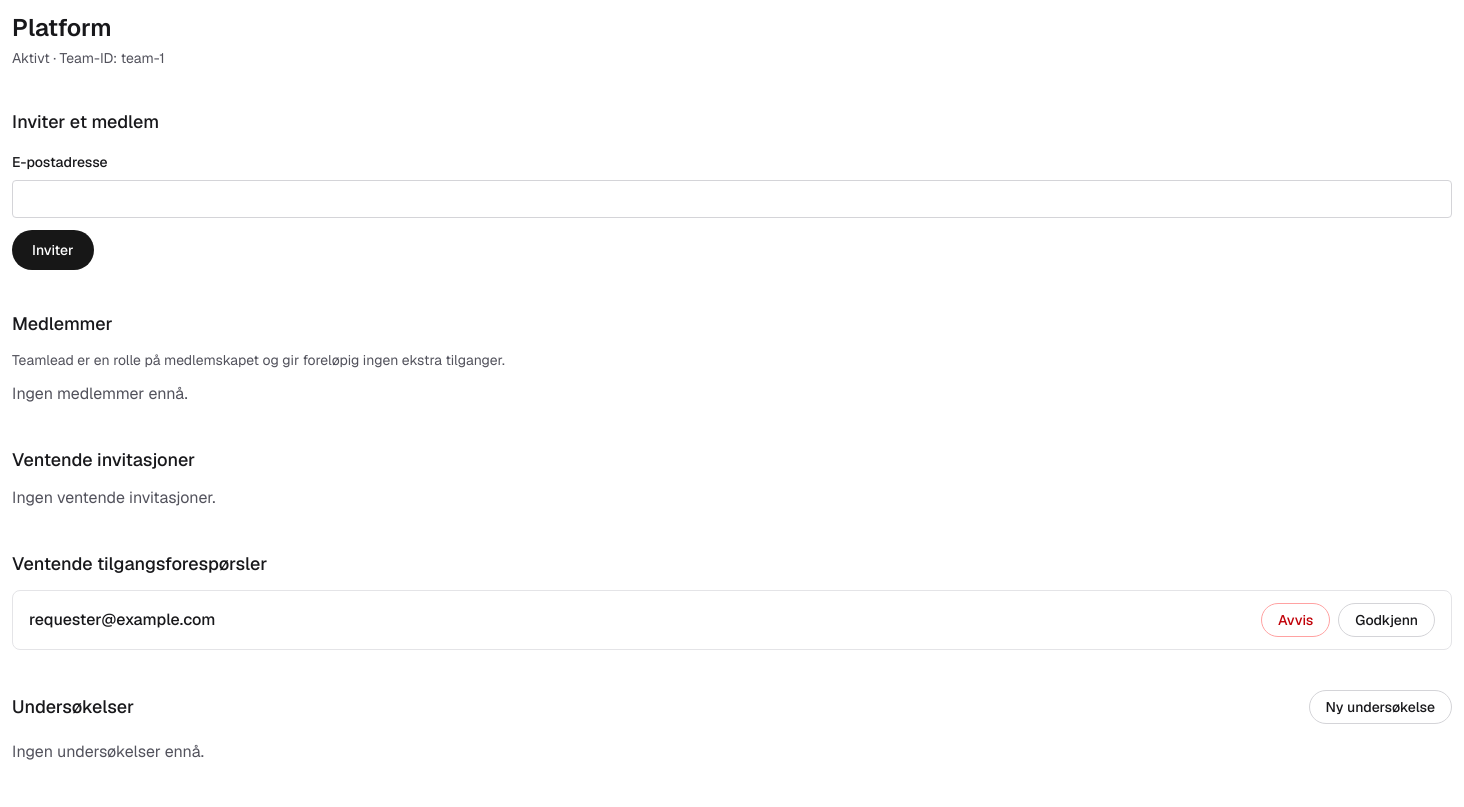
it: AdminTeamDetail › labels Avvis as pending and disables (without relabeling) Godkjenn while a rejection is in flight
This screenshot has width=1464, height=807.
Expected: the text "requester@example.com" is shown, [29,608,215,632]
Click the button "Avvis".
click(1296, 620)  # box [1261,603,1330,637]
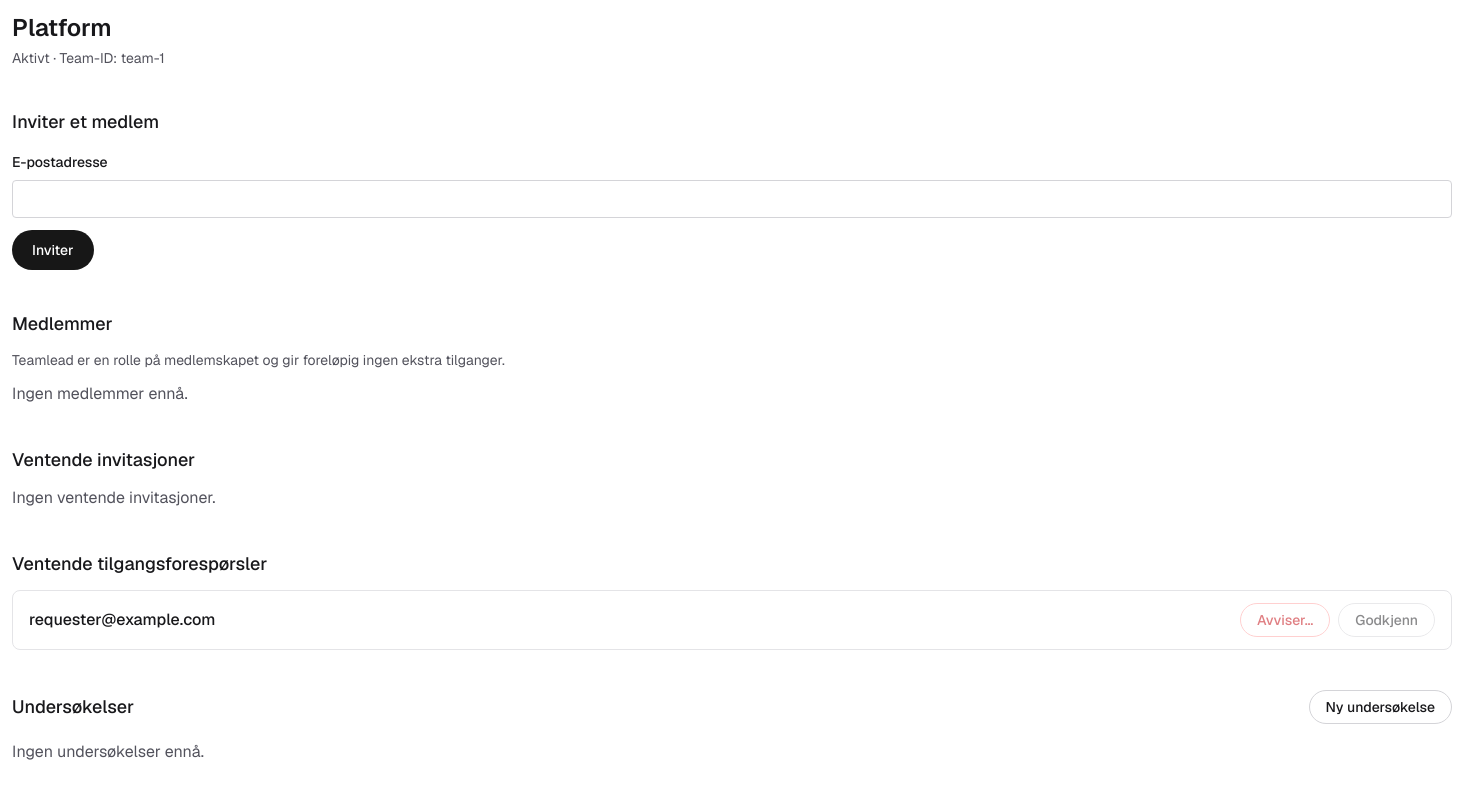
Expected: the button "Godkjenn" is shown, [1338,603,1435,637]
Expected: the button "Avviser…" is disabled, [1240,603,1330,637]
Expected: the button "Godkjenn" is disabled, [1338,603,1435,637]
